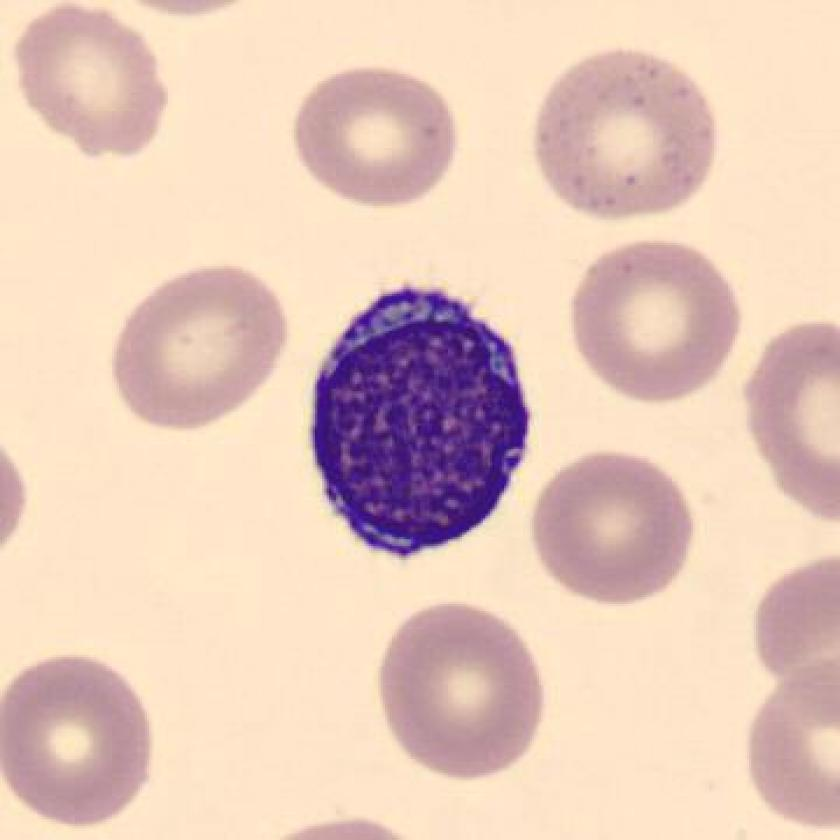lymphocyte: (291, 267, 550, 580)
